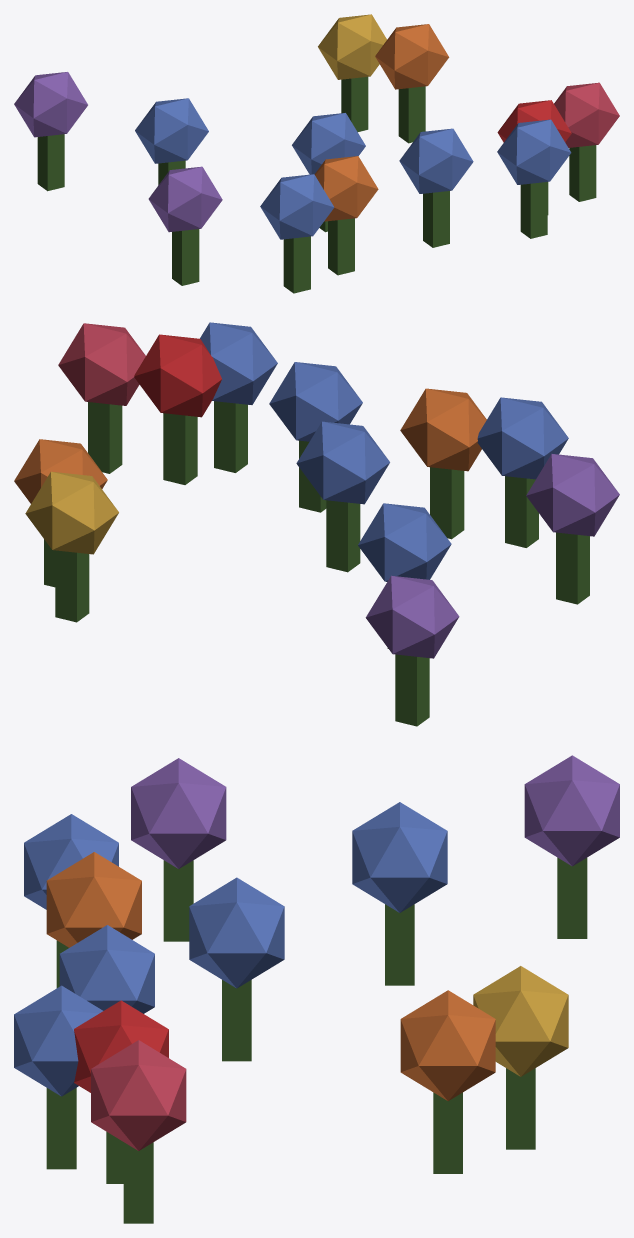
Rendered from flowers.glb.
3 views of the same model, one above another, from view 1: azimuth 30°, elevation 25°; view 2: azimuth 150°, elevation 25°; view 3: azimuth 270°, elevation 25° (orthographic). The views are drawn at different scales.
Parts seen in each view (by area): view 1: Flowers; view 2: Flowers; view 3: Flowers.
Part boxes in pixels (left/top/right/bottom): Flowers: left=14, top=14, right=619, bottom=293; Flowers: left=14, top=322, right=619, bottom=726; Flowers: left=14, top=755, right=619, bottom=1223.
Bounding box in the file's own units: 0.2059 × 0.0488 × 0.1623.
